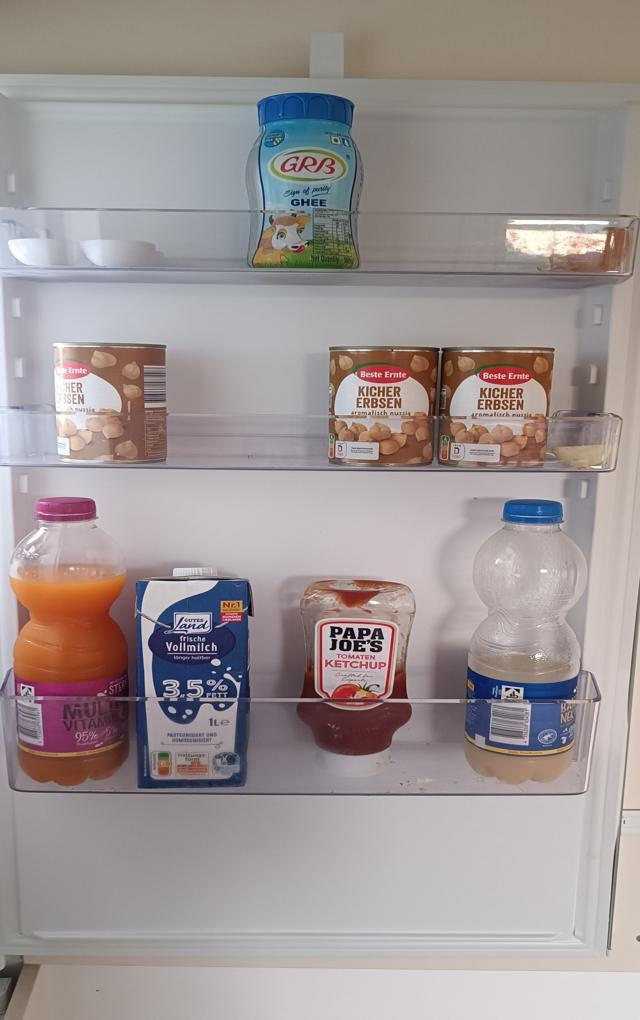bananajuice: (468, 499, 587, 786)
chickpeas: (51, 341, 170, 466), (327, 345, 438, 470), (443, 348, 552, 468)
ghee: (248, 90, 364, 277)
milk: (134, 565, 256, 791)
orangejuice: (9, 494, 132, 788)
tomatoketchup: (295, 576, 417, 775)
